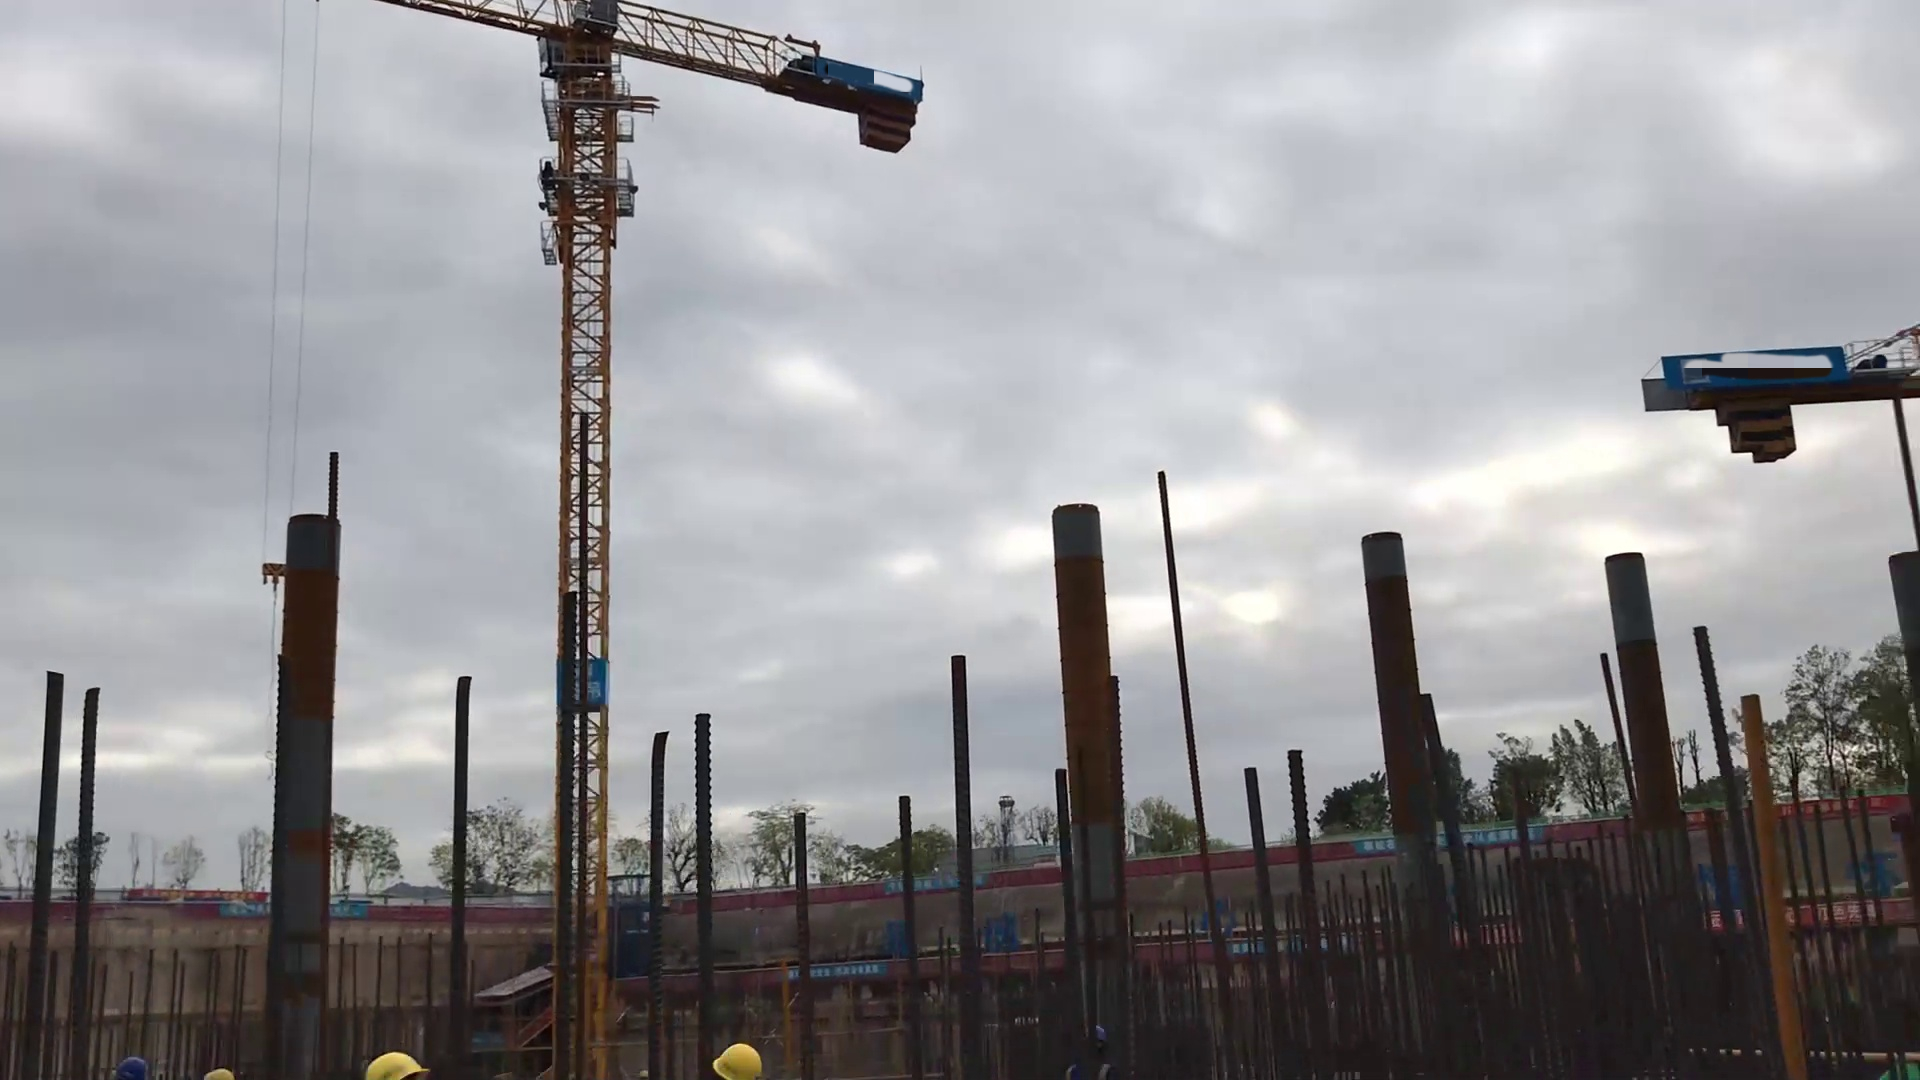fence: (382, 891, 448, 938), (465, 898, 549, 932), (709, 881, 796, 913), (1130, 845, 1200, 881), (994, 866, 1071, 898), (814, 877, 885, 909), (1208, 845, 1251, 872)
helmet: (353, 1035, 436, 1077), (713, 1040, 770, 1080), (102, 1054, 144, 1080), (200, 1064, 229, 1080)
slogan: (785, 953, 887, 985), (587, 657, 615, 711)
